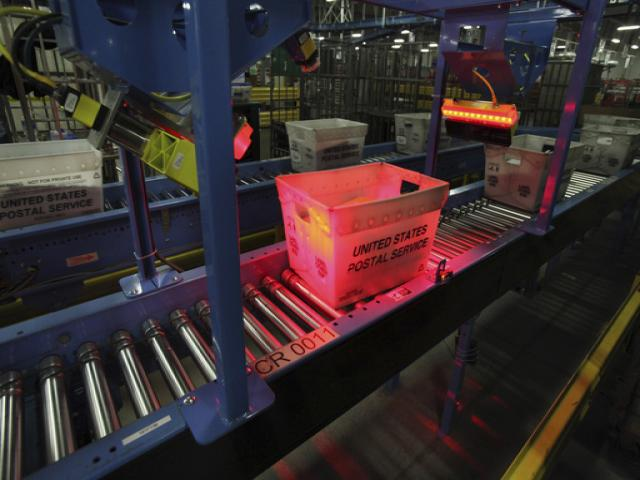conveyor: (0, 156, 640, 480)
